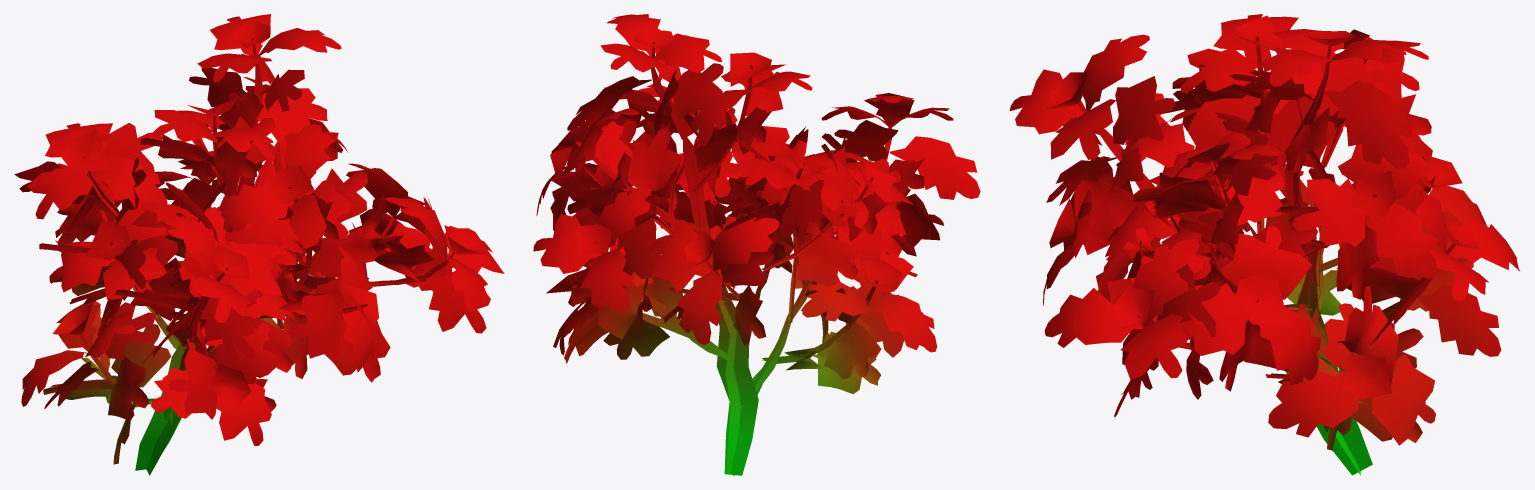
The model's file is Rose Hip_LOD3_Var5.fbx.
3 views of the same model, side by side, from view 1: azimuth 30°, elevation 25°; view 2: azimuth 150°, elevation 25°; view 3: azimuth 270°, elevation 25° (orthographic). The views are drawn at different scales.
Parts seen in each view (by area): view 1: _4eoy_Var5_LOD3; view 2: _4eoy_Var5_LOD3; view 3: _4eoy_Var5_LOD3.
Boxes of the visible parts, x1,y1,x2,y2 form: _4eoy_Var5_LOD3: [14, 14, 504, 475]; _4eoy_Var5_LOD3: [533, 14, 980, 475]; _4eoy_Var5_LOD3: [1009, 14, 1519, 475].
Bounding box in the file's own units: 96.56 × 91.53 × 85.13.
